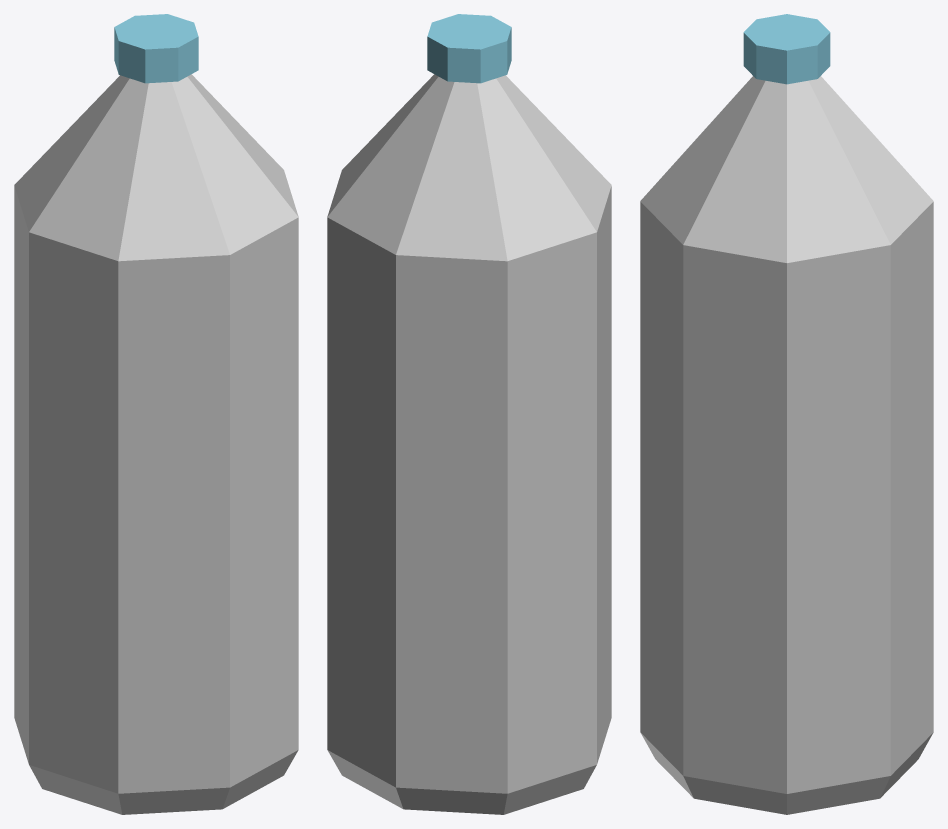
The model's file is Bootle.fbx.
3 renders of one model, left to right at view 1: azimuth 30°, elevation 25°; view 2: azimuth 150°, elevation 25°; view 3: azimuth 270°, elevation 25°, orthographic.
Parts seen in each view (by area): view 1: Cylinder; view 2: Cylinder; view 3: Cylinder.
Part boxes in pixels (bbox=[...]): Cylinder: bbox=[14, 14, 298, 814]; Cylinder: bbox=[327, 14, 611, 814]; Cylinder: bbox=[640, 14, 933, 814].
Size of the model in its own units: 81.34 by 222 by 81.34.
